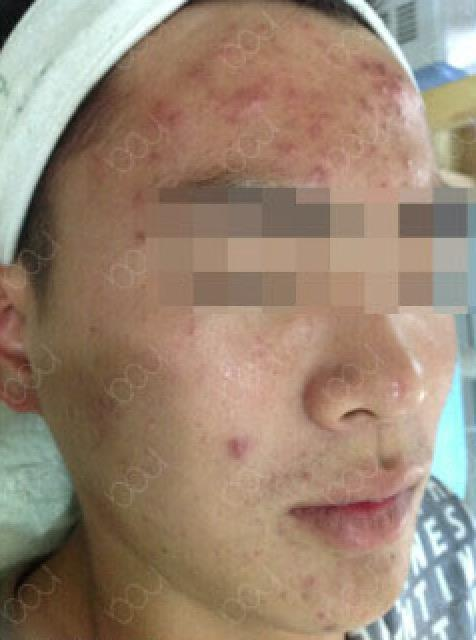fore: (234, 81, 278, 123), (183, 66, 227, 97), (377, 76, 418, 108), (350, 54, 393, 76), (227, 431, 255, 463), (134, 226, 158, 262), (347, 93, 378, 118), (297, 570, 327, 594), (313, 615, 346, 635), (282, 140, 305, 164), (309, 121, 327, 151), (397, 152, 419, 174), (286, 84, 307, 107), (133, 188, 150, 212), (147, 98, 178, 111), (167, 108, 184, 131), (314, 158, 327, 184)
